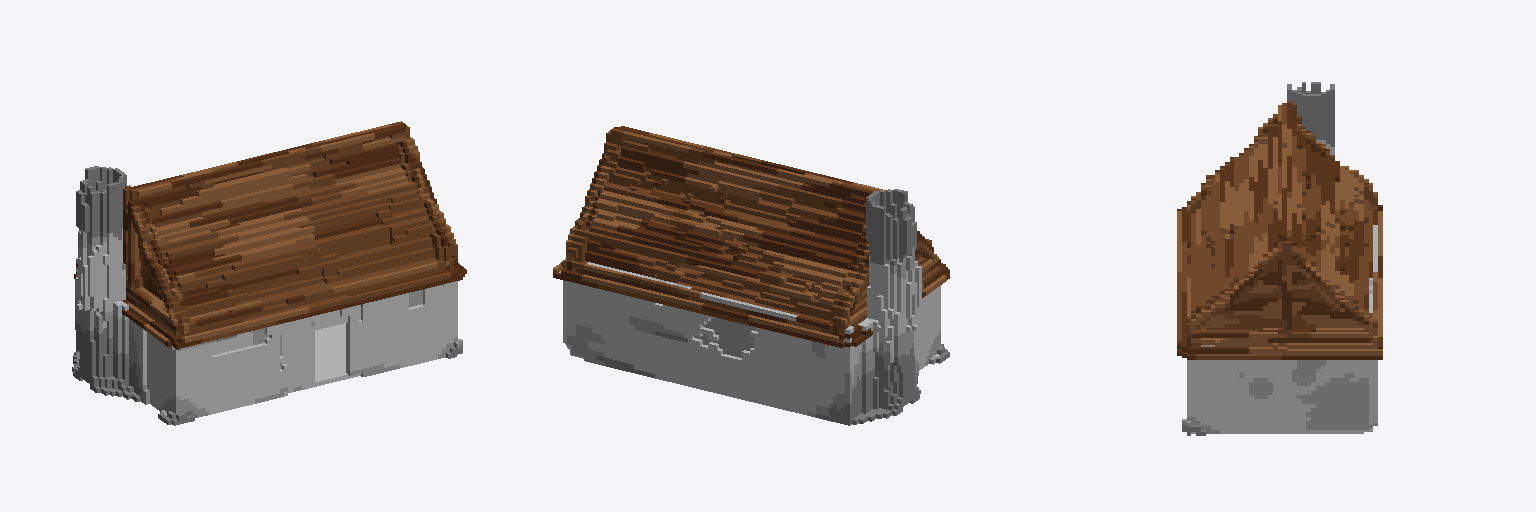
3 views of the same model, side by side, from view 1: azimuth 30°, elevation 25°; view 2: azimuth 150°, elevation 25°; view 3: azimuth 270°, elevation 25° (orthographic).
Visible parts, largest first — view 1: object 1; view 2: object 1; view 3: object 1.
Part boxes in pixels (x1,y1,x2,y2): object 1: (72, 121, 466, 425); object 1: (553, 126, 949, 425); object 1: (1177, 82, 1382, 435).
Bounding box in the file's own units: 7.9 × 4.7 × 4.3.
Materials: 1 (1 with a texture image).